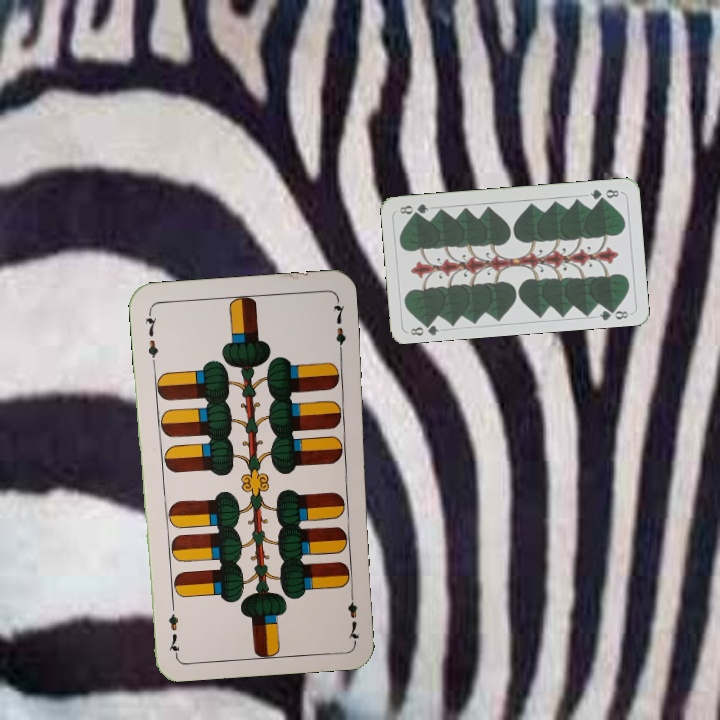E7: (141, 307, 161, 366), (344, 584, 362, 643)
G8: (407, 317, 441, 338), (586, 185, 622, 203)
